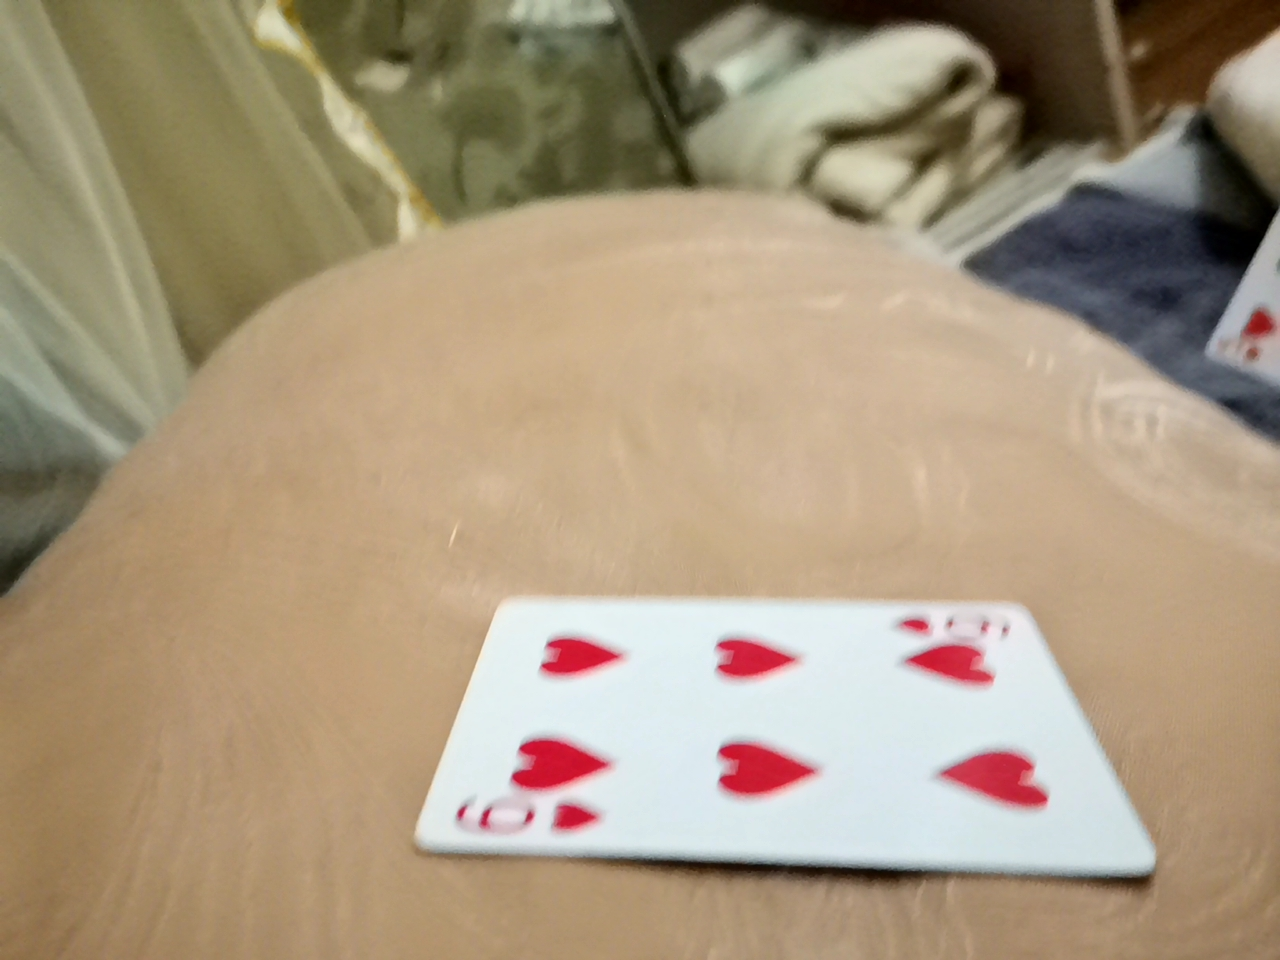hx 6: (434, 649, 1155, 924)
